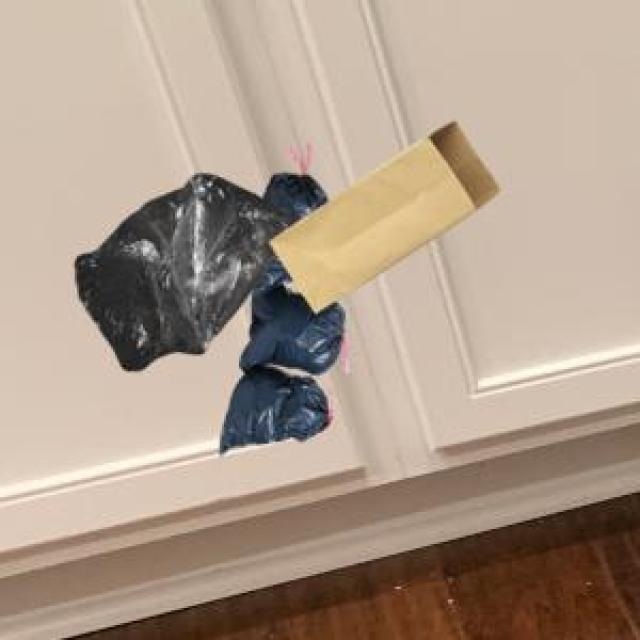miscellaneous trash: (216, 171, 344, 450)
paper: (265, 117, 495, 309)
